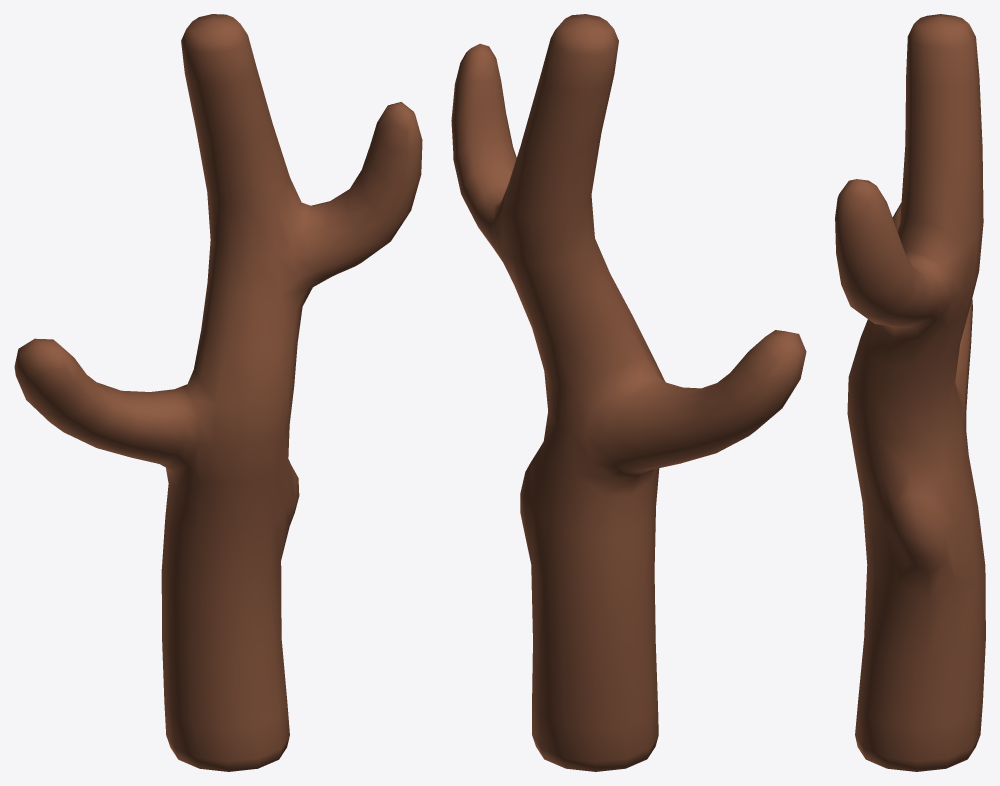
Rendered from Tree_D_02.glb.
3 views of the same model, side by side, from view 1: azimuth 30°, elevation 25°; view 2: azimuth 150°, elevation 25°; view 3: azimuth 270°, elevation 25° (orthographic). The views are drawn at different scales.
Visible parts, largest first — view 1: Tree_Btm_D_02_LOD0; view 2: Tree_Btm_D_02_LOD0; view 3: Tree_Btm_D_02_LOD0.
Part boxes in pixels (x1,y1,x2,y2): Tree_Btm_D_02_LOD0: (14,14,422,771); Tree_Btm_D_02_LOD0: (451,14,806,771); Tree_Btm_D_02_LOD0: (835,14,985,771).
Size of what is drawn, in the model's own units: 4.23 by 8 by 1.49.
1 material, 1 textured.
